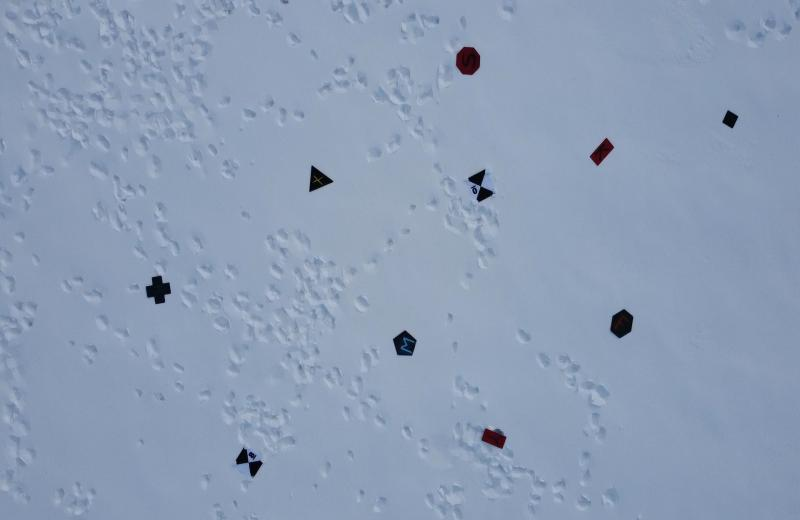Cross: (144, 274, 176, 308)
Hexagon: (609, 305, 640, 342)
Octagon: (455, 43, 483, 80)
Pentagon: (390, 326, 419, 362)
Rectangle: (584, 133, 616, 166), (477, 420, 510, 450)
Square: (719, 105, 743, 129)
Triangle: (305, 162, 338, 196)
